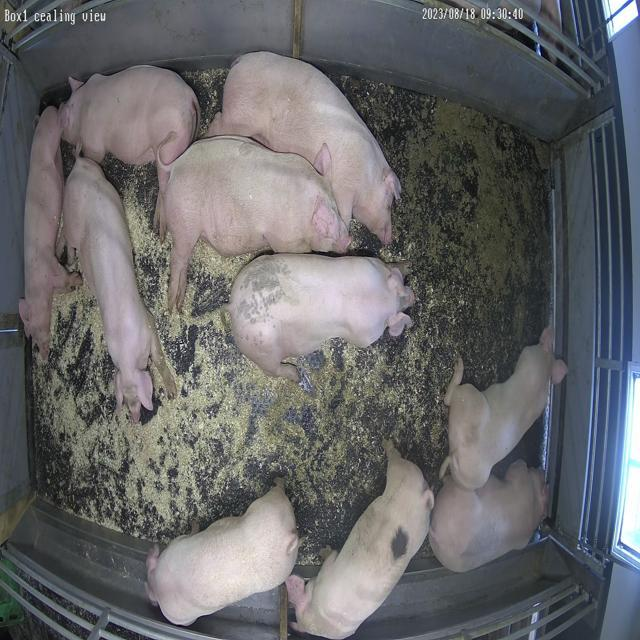Dirt: (373, 88, 552, 386), (288, 366, 405, 496)
Pig: (208, 51, 401, 244), (164, 136, 352, 310), (63, 157, 176, 422), (287, 442, 434, 640), (146, 481, 299, 626), (446, 329, 568, 490), (60, 65, 200, 190), (18, 106, 79, 360), (430, 461, 549, 574)
